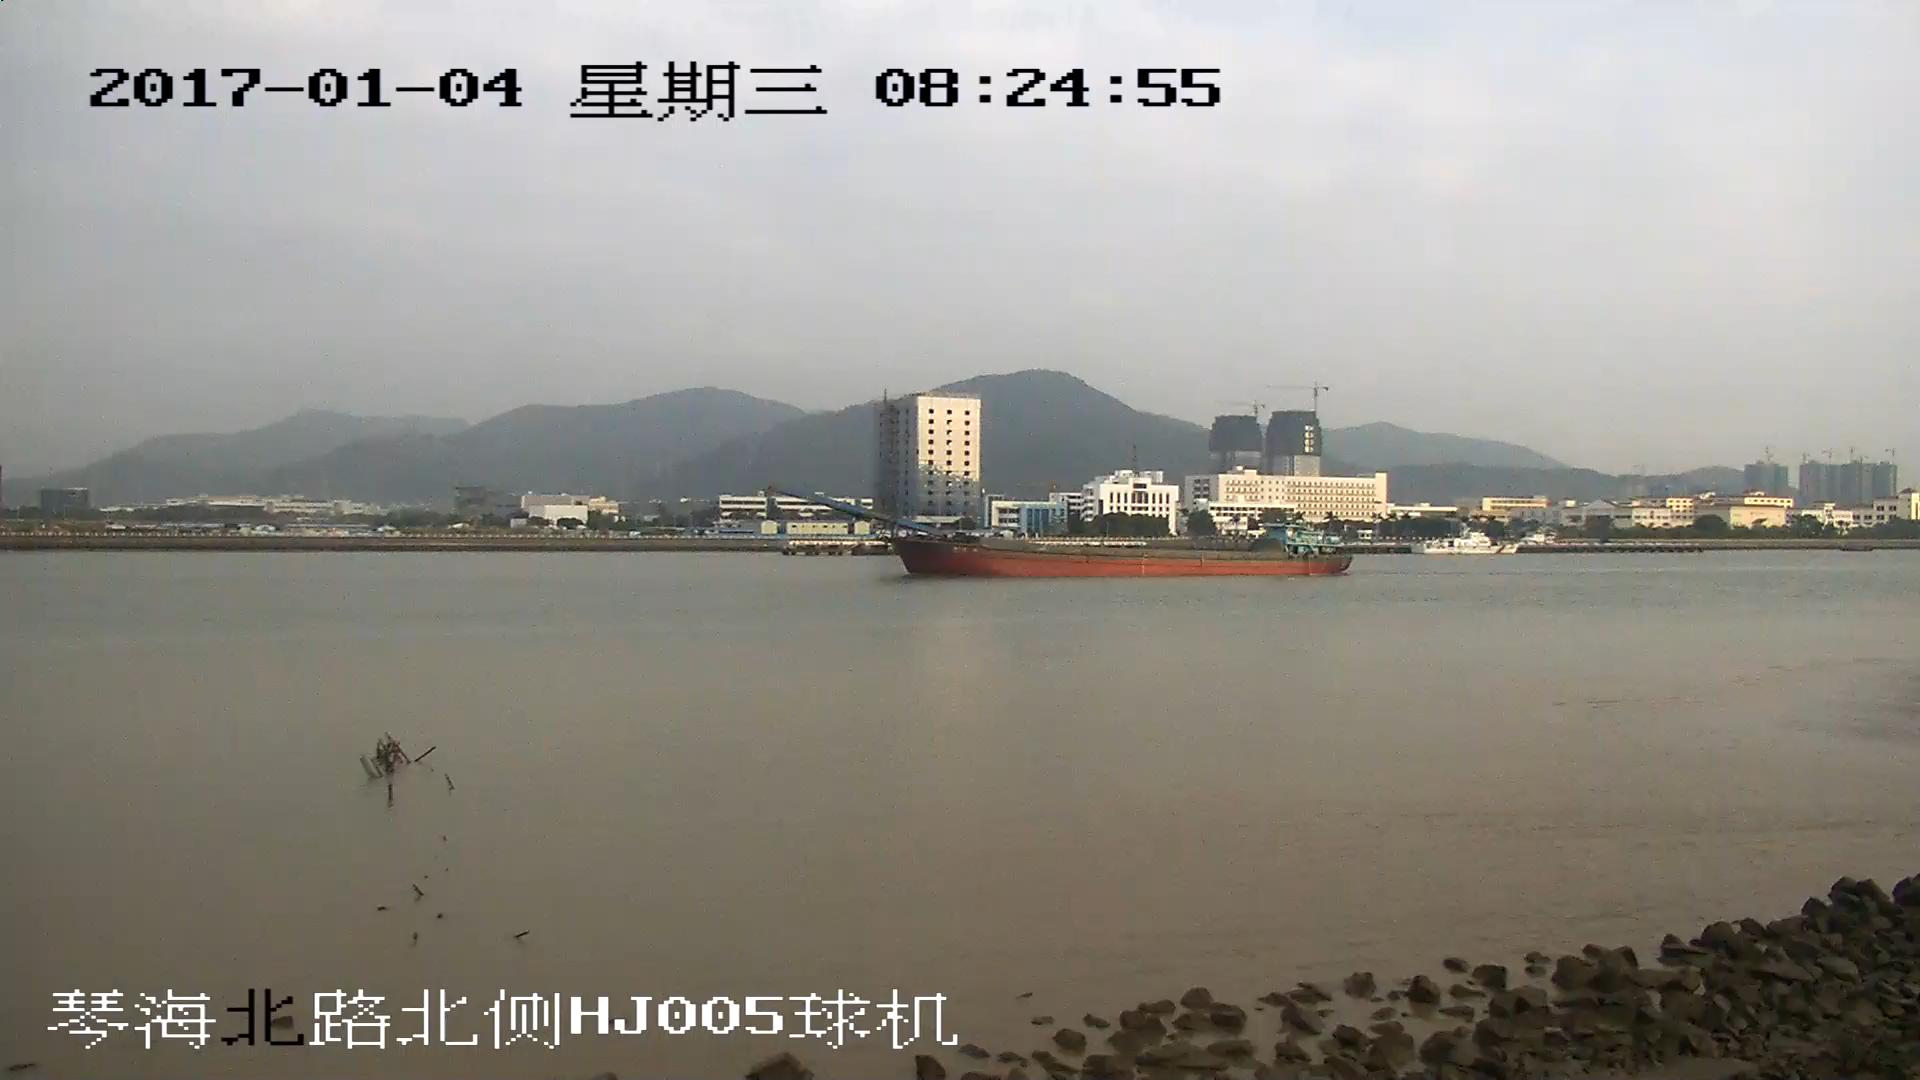bulk cargo carrier: (777, 487, 1351, 573)
